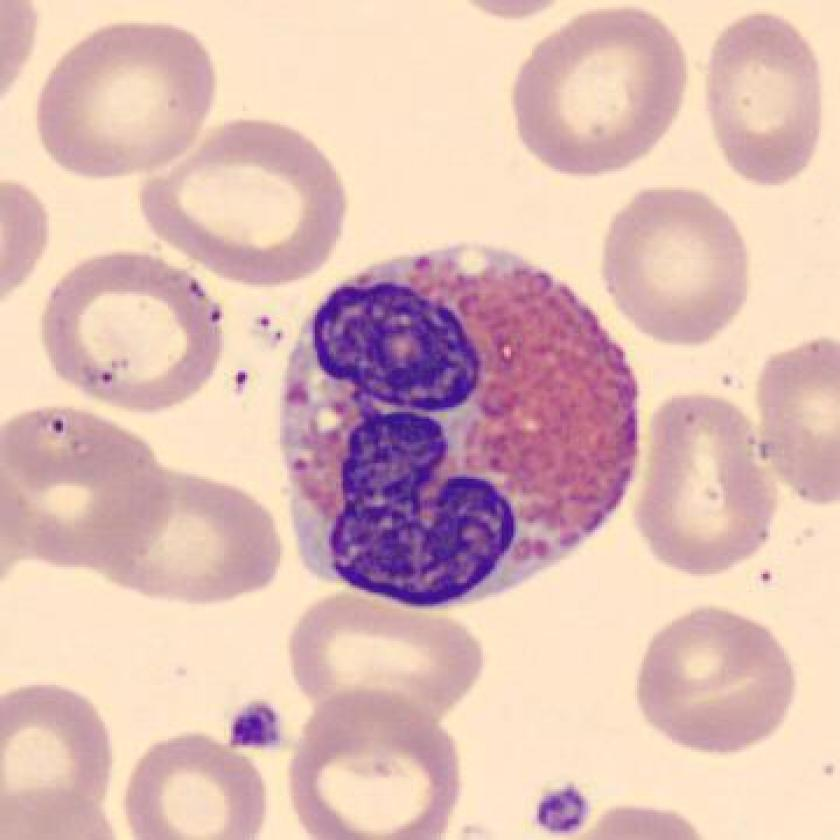eosinophil: (270, 235, 655, 624)
